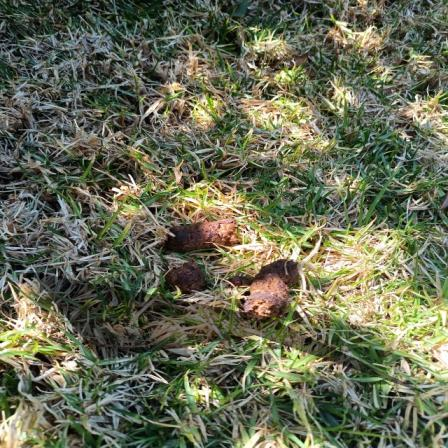dog-poop: (158, 217, 303, 319)
